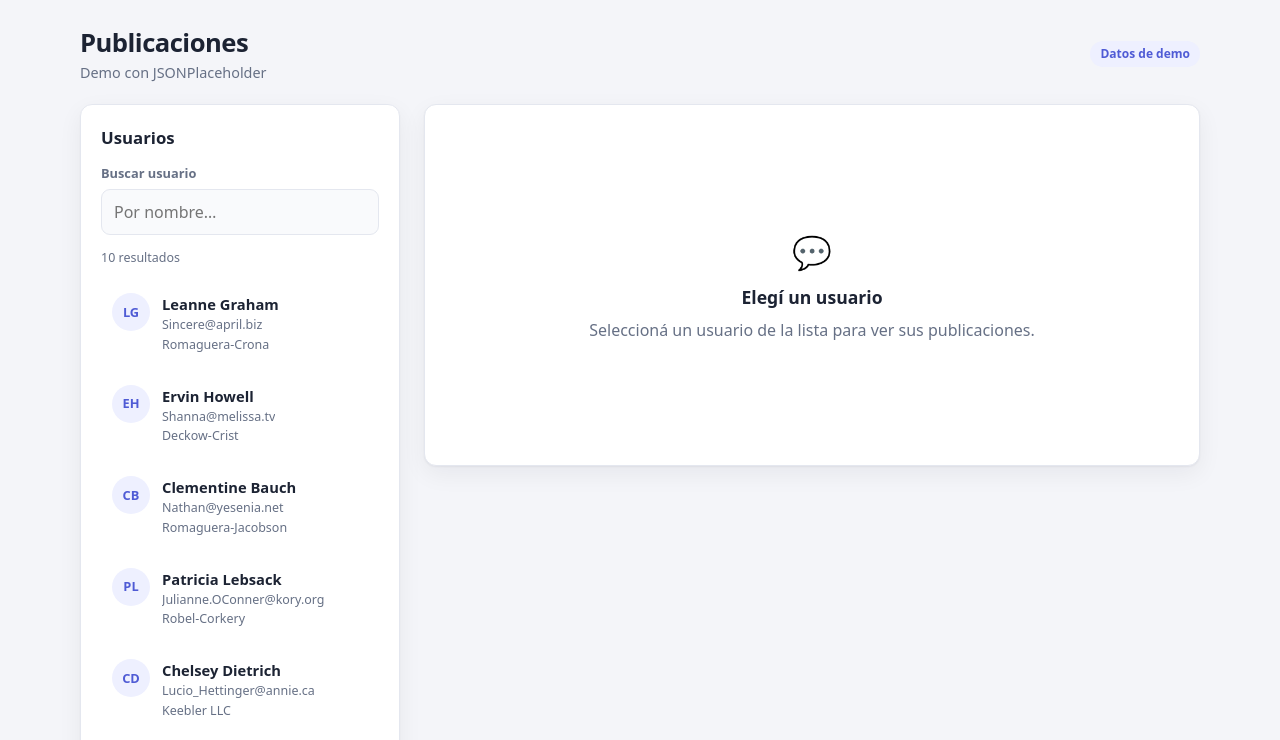
publicaciones por usuario › muestra el estado vacío cuando el usuario no tiene publicaciones
Click the button "Clementine Bauch" at (240, 507), box [101,465,379,549]
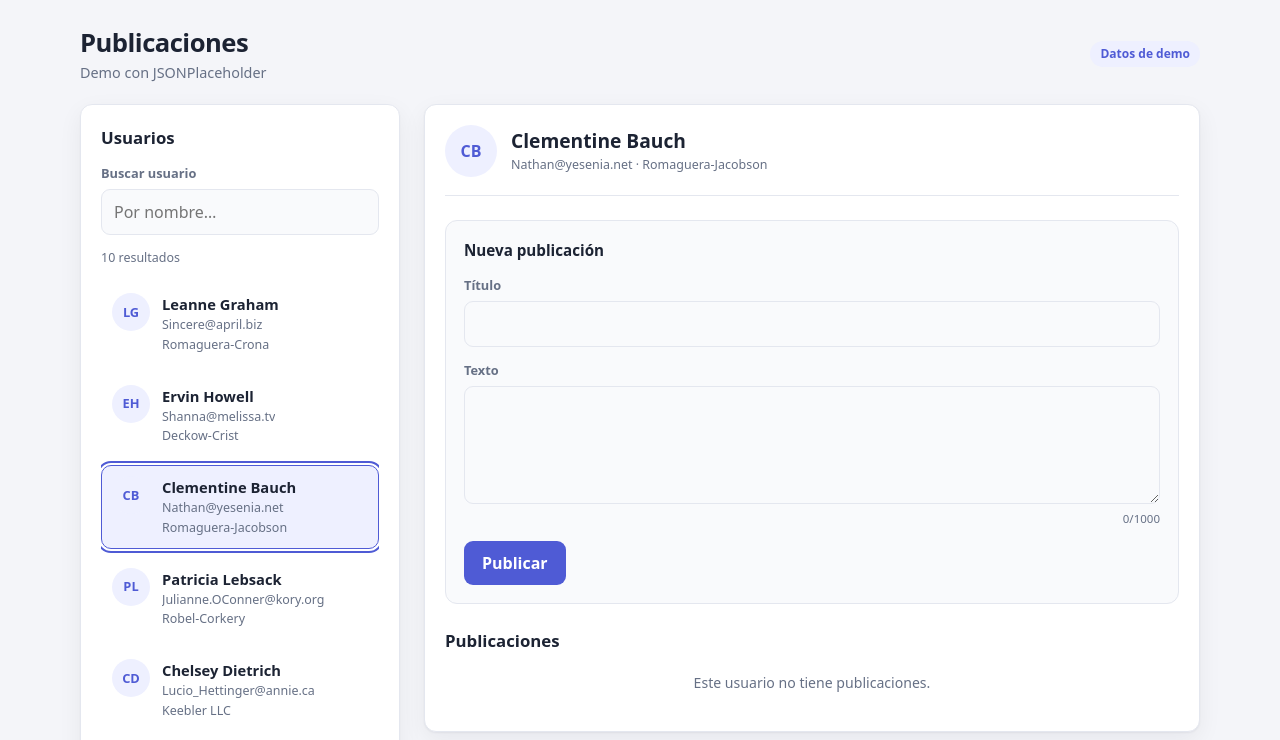
expect the text "Este usuario no tiene publicaciones." is shown: met, box [694,673,930,692]
